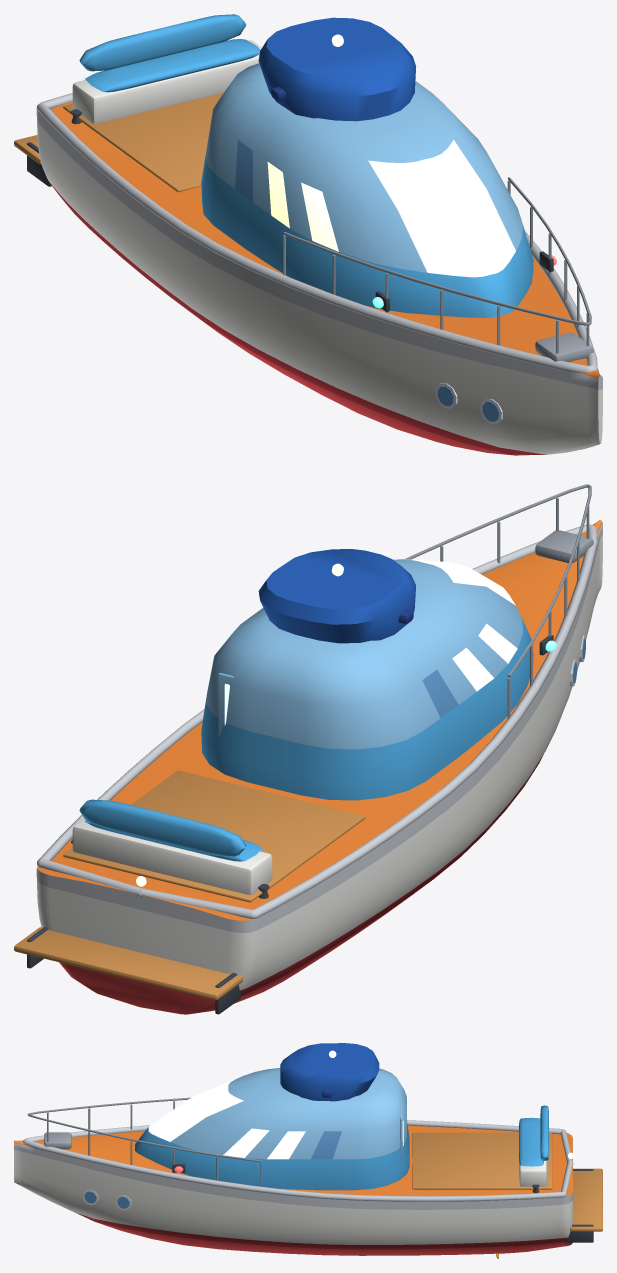
Rendered from iate_cupula_azul.glb.
3 views of the same model, one above another, from view 1: azimuth 30°, elevation 25°; view 2: azimuth 150°, elevation 25°; view 3: azimuth 270°, elevation 25° (orthographic). The views are drawn at different scales.
Visible parts, largest first — view 1: iate_cupula_azul; view 2: iate_cupula_azul; view 3: iate_cupula_azul.
Boxes of the visible parts, bbox=[...] form: iate_cupula_azul: bbox=[14, 14, 602, 455]; iate_cupula_azul: bbox=[14, 484, 602, 1014]; iate_cupula_azul: bbox=[14, 1043, 602, 1255].
Size of the model in its own units: 3.42 by 3.89 by 10.72.
Materials: 7 (1 with a texture image).
